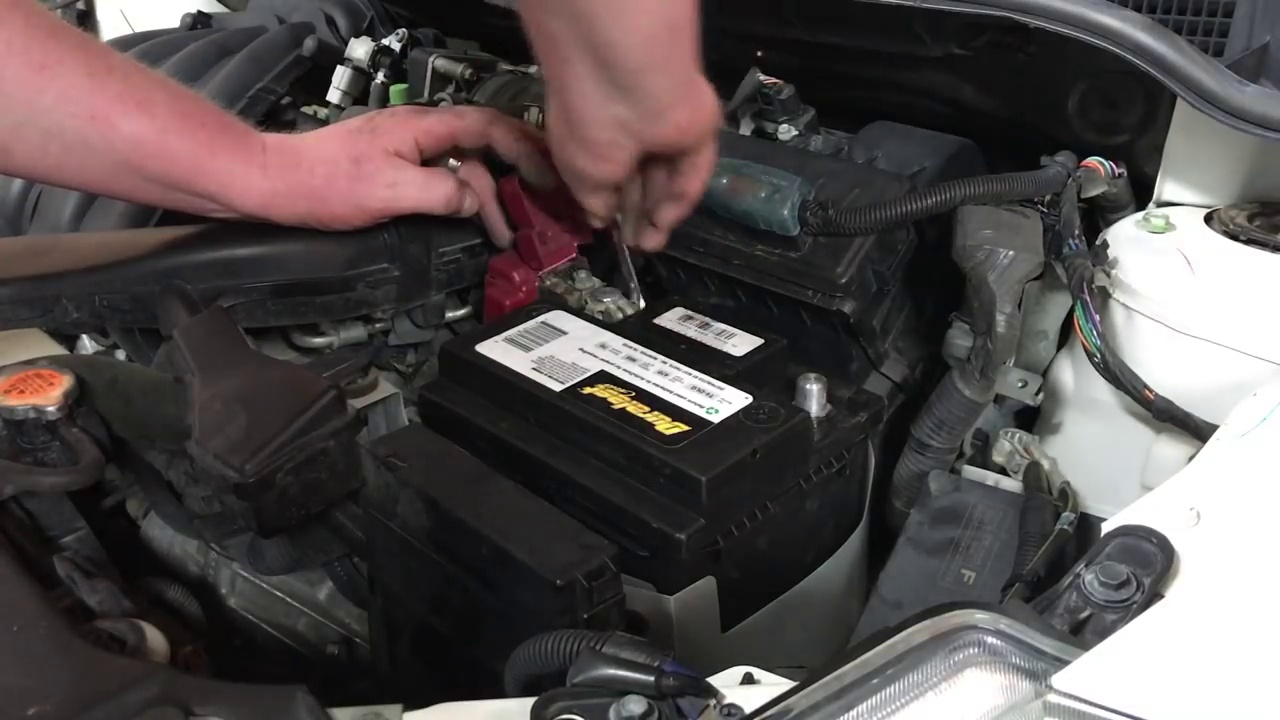battery: (428, 279, 873, 482)
neg_disconnected: (741, 352, 877, 438)
pos_touched: (441, 127, 671, 317)
